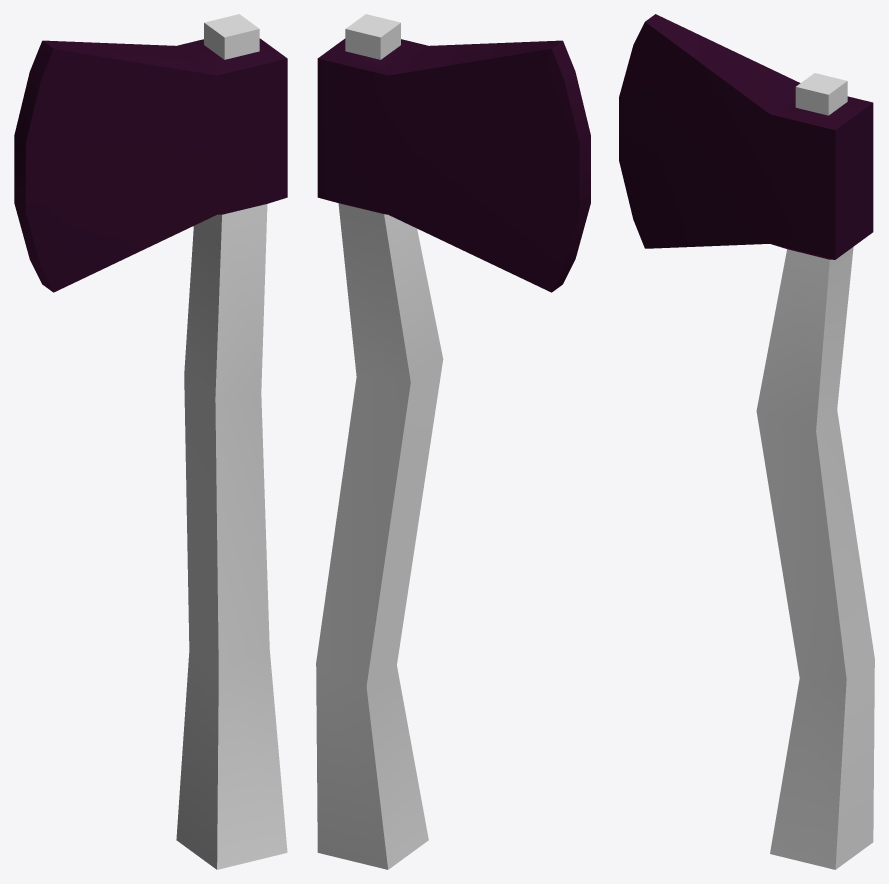
File: Axe.fbx
3 views of the same model, side by side, from view 1: azimuth 30°, elevation 25°; view 2: azimuth 150°, elevation 25°; view 3: azimuth 330°, elevation 25° (orthographic). The views are drawn at different scales.
Parts seen in each view (by area): view 1: Axe; view 2: Axe; view 3: Axe.
Part boxes in pixels (x1,y1,x2,y2): Axe: [14, 14, 287, 869]; Axe: [316, 14, 590, 869]; Axe: [619, 14, 874, 869].
Size of the model in its own units: 47.36 by 155 by 17.07.
